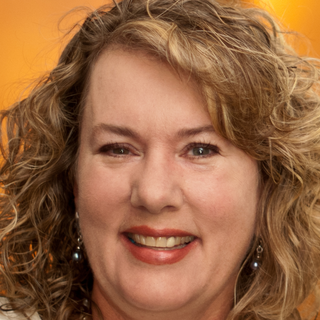eye: (173, 139, 222, 163), (94, 138, 143, 160)
